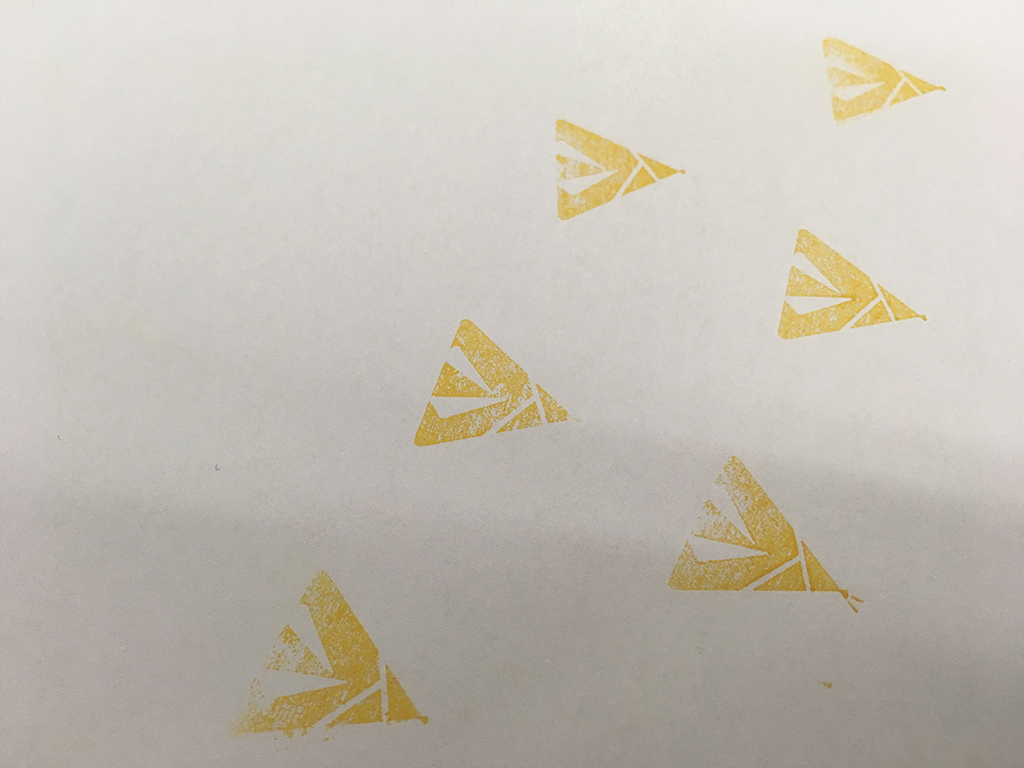tent: (663, 442, 876, 625), (221, 560, 434, 738), (398, 309, 594, 456), (774, 216, 935, 352), (544, 110, 697, 228), (816, 28, 953, 135)
